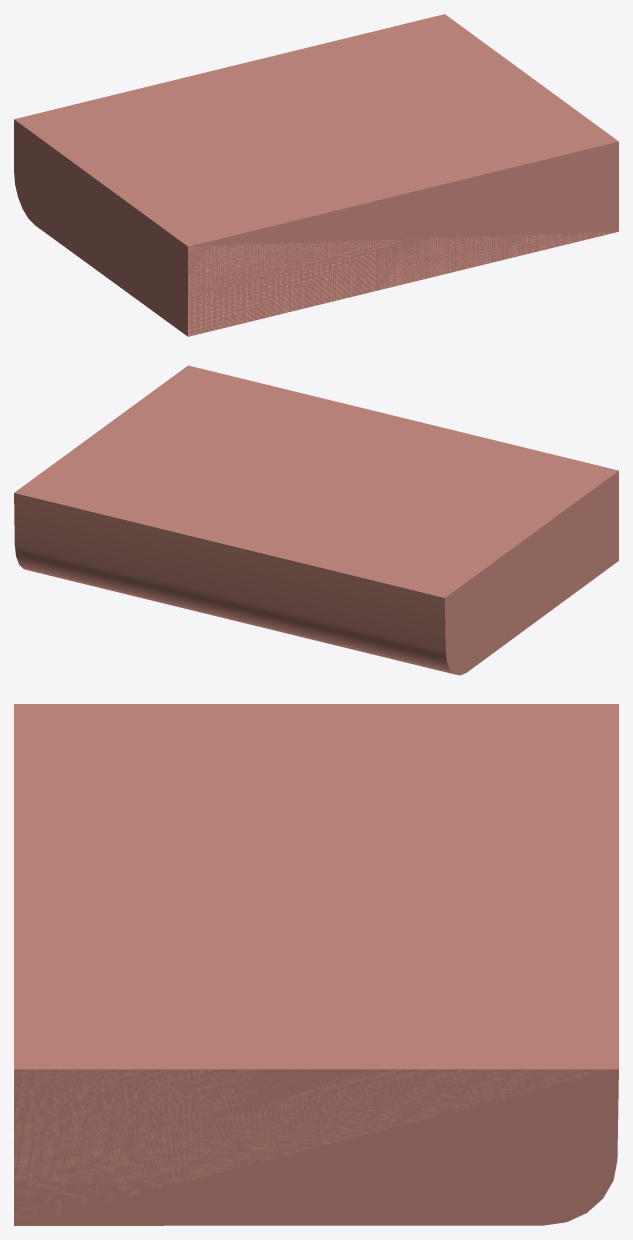
The model's file is BasicTerraceRounded10m.fbx.
3 renders of one model, top to bottom at view 1: azimuth 30°, elevation 25°; view 2: azimuth 150°, elevation 25°; view 3: azimuth 270°, elevation 25°, orthographic. The views are drawn at different scales.
Visible parts, largest first — view 1: BasicTerraceRounded10m.004; view 2: BasicTerraceRounded10m.004; view 3: BasicTerraceRounded10m.004.
Part boxes in pixels (box(x1,y1,x2,y2)): BasicTerraceRounded10m.004: box(14, 14, 618, 336); BasicTerraceRounded10m.004: box(14, 365, 618, 675); BasicTerraceRounded10m.004: box(14, 704, 618, 1225).
Bounding box in the file's own units: 1001 × 200 × 700.
